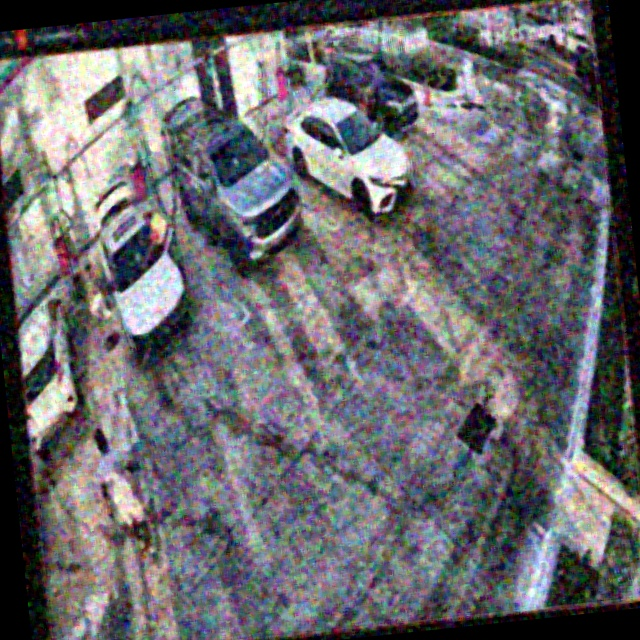Car: (164, 88, 305, 281), (284, 93, 421, 232), (91, 173, 191, 362)
